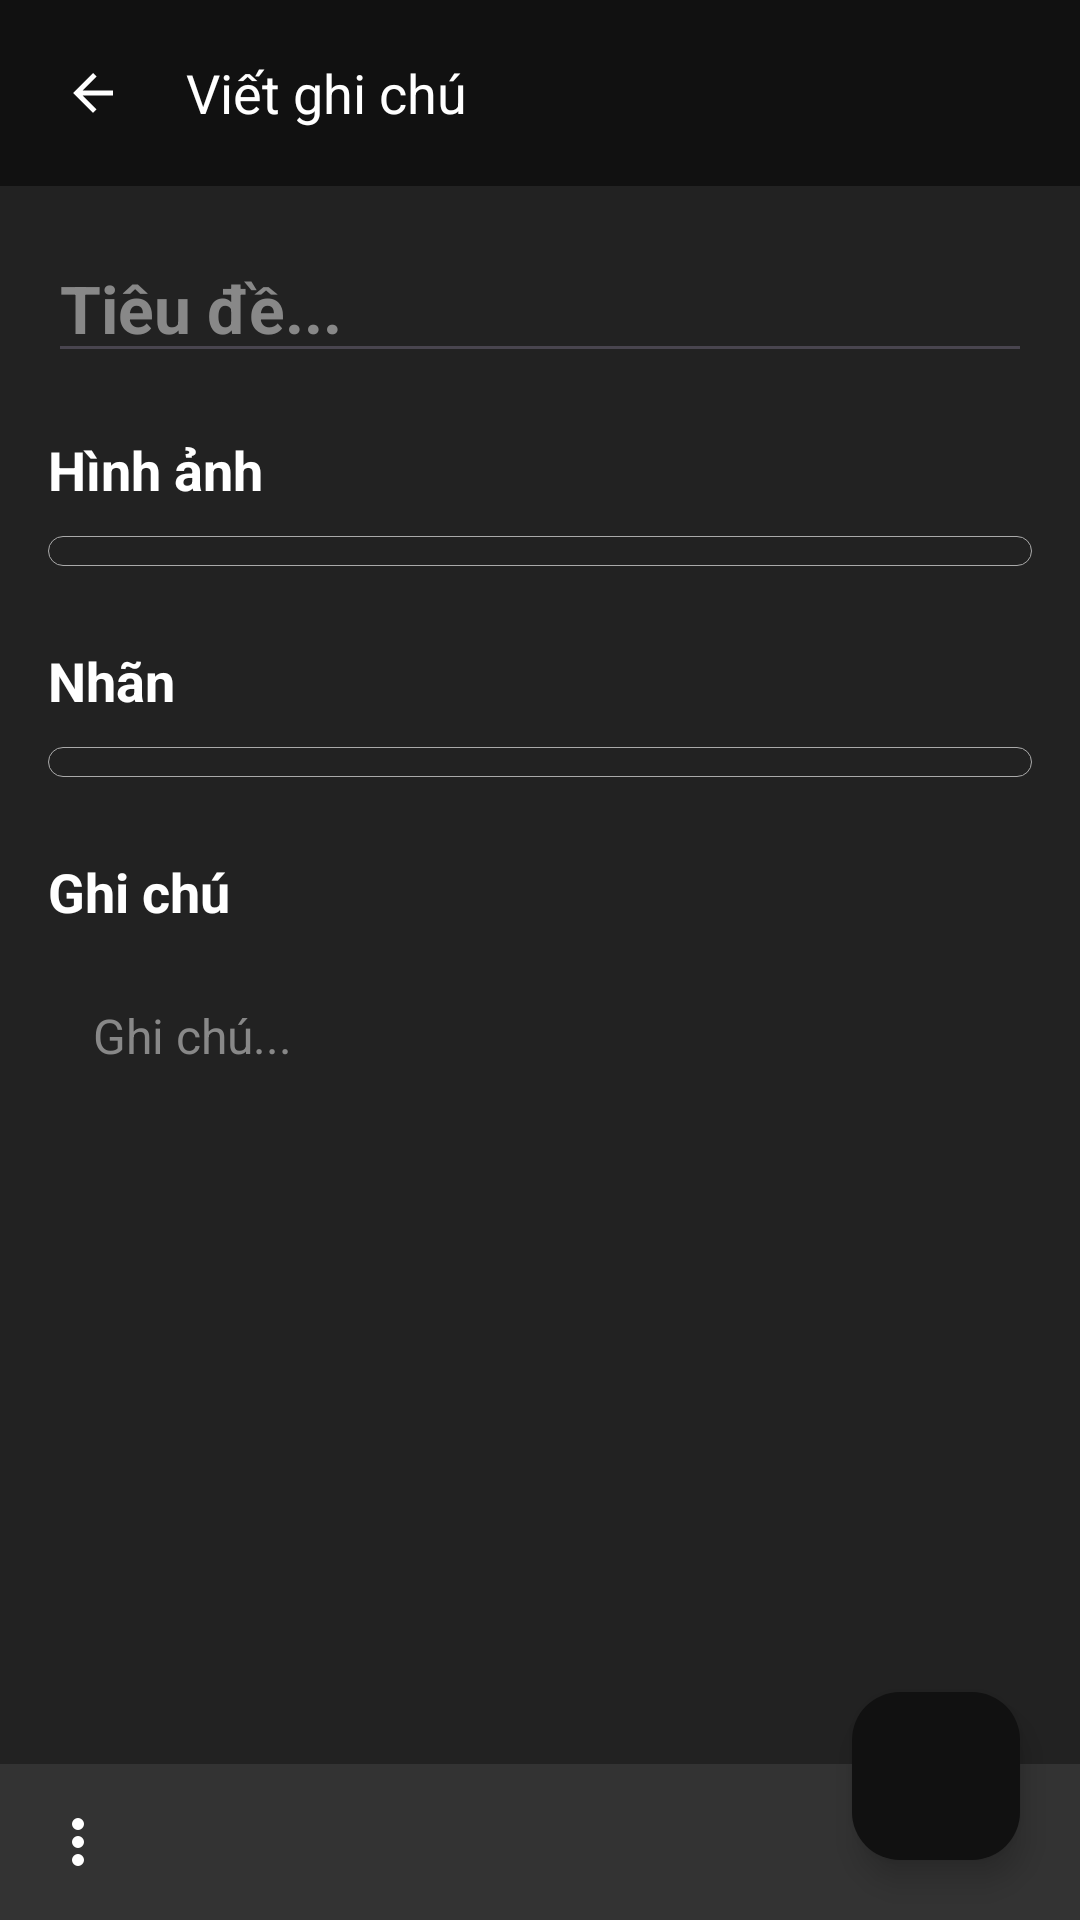

Locate icon controls on the screen. Image size 1080*1920, boxes as [left=x1, top=y1, right=x2, bottom=y2].
Back: [left=73, top=73, right=113, bottom=113]
Tùy chọn: [left=72, top=1818, right=84, bottom=1866]
